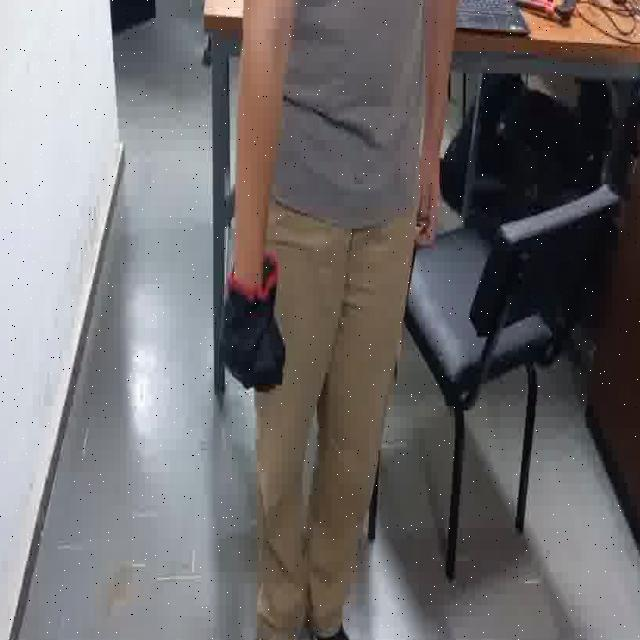Gloves: (208, 250, 292, 394)
